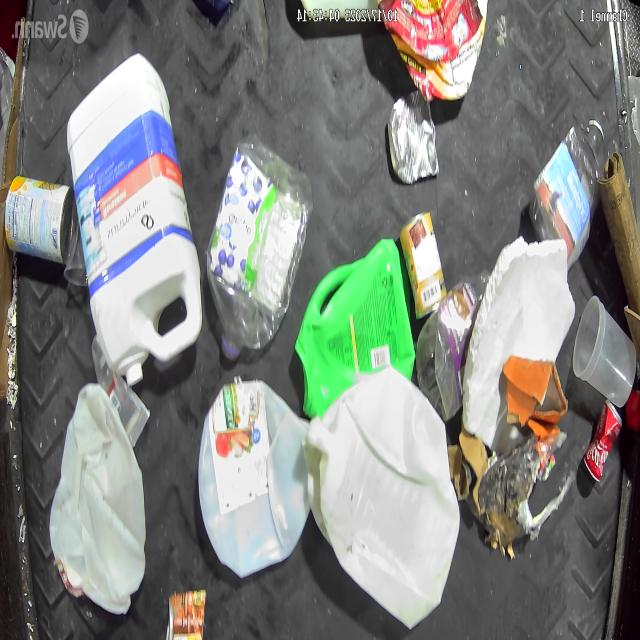can: (5, 177, 73, 266), (397, 210, 445, 321), (386, 89, 438, 187), (582, 397, 622, 484), (163, 582, 208, 640)
milk_jug: (302, 371, 461, 636), (197, 378, 313, 574), (50, 380, 146, 614)
non_white_jug: (295, 230, 416, 419)
plastic_bottle: (206, 137, 312, 359), (527, 120, 603, 256)
